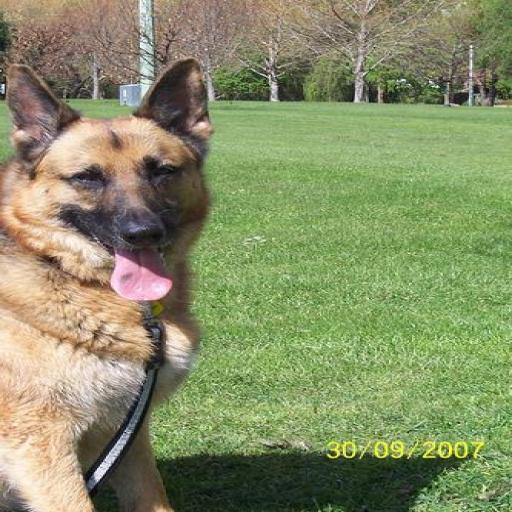dog_face: (10, 62, 218, 278)
